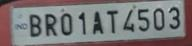0: (152, 8, 167, 33), (59, 11, 73, 37)
1: (76, 12, 90, 39)
3: (168, 5, 182, 32)
4: (123, 8, 136, 36)
5: (137, 8, 151, 34)
A: (91, 11, 105, 36)
B: (27, 12, 42, 38)
R: (44, 13, 59, 37)
T: (106, 10, 121, 35)
